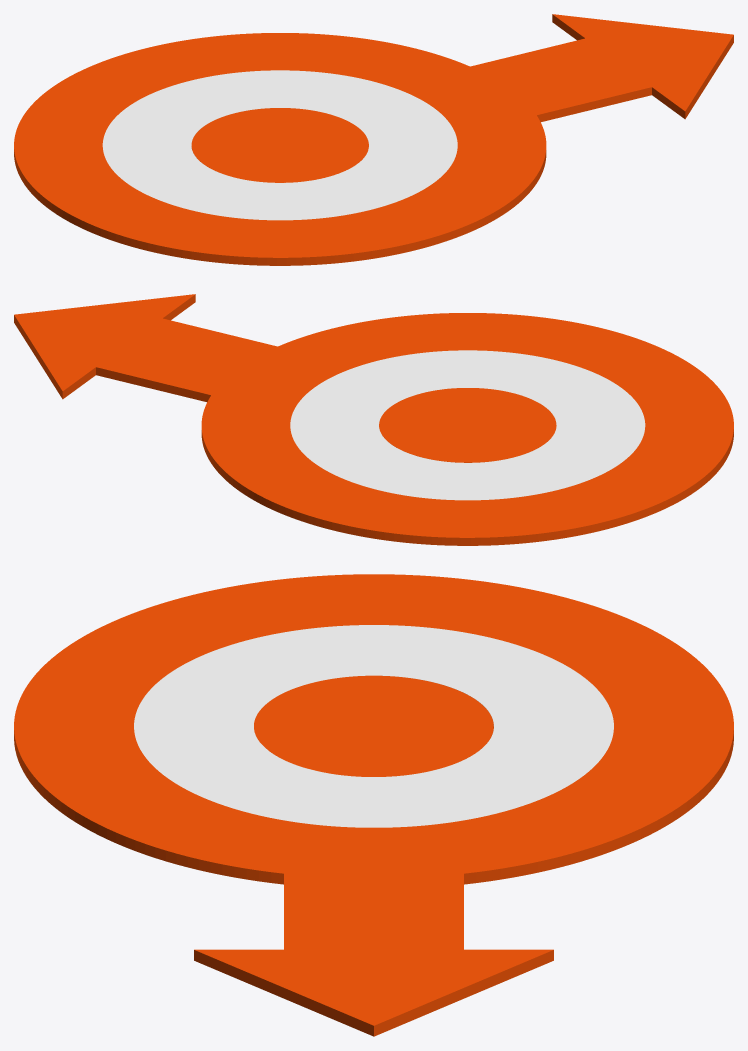
File: landing-base-mesh.dae
3 renders of one model, top to bottom at view 1: azimuth 30°, elevation 25°; view 2: azimuth 150°, elevation 25°; view 3: azimuth 270°, elevation 25°, orthographic. The views are drawn at different scales.
Visible parts, largest first — view 1: node2, node1, node0; view 2: node2, node1, node0; view 3: node2, node1, node0.
Part boxes in pixels (x1=…): node2: x1=14, y1=14, x2=733, y2=265; node1: x1=102, y1=70, x2=457, y2=220; node0: x1=191, y1=108, x2=368, y2=182; node2: x1=14, y1=294, x2=733, y2=545; node1: x1=290, y1=350, x2=645, y2=500; node0: x1=379, y1=388, x2=556, y2=462; node2: x1=14, y1=574, x2=733, y2=1036; node1: x1=134, y1=625, x2=613, y2=827; node0: x1=254, y1=675, x2=493, y2=776.
Size of the model in its own units: 0.8904 by 0.6 by 0.01.
